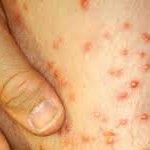Ants: (44, 58, 69, 91), (103, 130, 117, 149), (114, 90, 133, 102), (50, 38, 64, 50), (9, 13, 24, 24), (81, 40, 93, 52), (137, 51, 149, 60), (109, 68, 122, 76), (79, 0, 90, 9), (80, 133, 90, 142), (138, 113, 149, 121), (122, 21, 131, 30), (130, 80, 138, 89), (141, 32, 149, 41), (63, 125, 71, 133), (118, 119, 127, 126), (142, 63, 149, 72), (120, 48, 128, 55), (93, 112, 103, 117), (104, 32, 110, 39)
